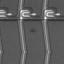dust: (30, 29, 36, 32)
